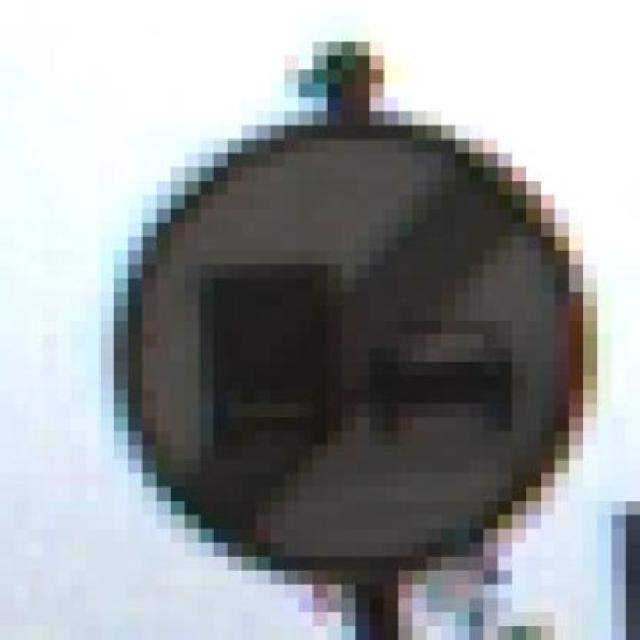Overtaking by trucks is prohibited: (29, 97, 612, 612)
